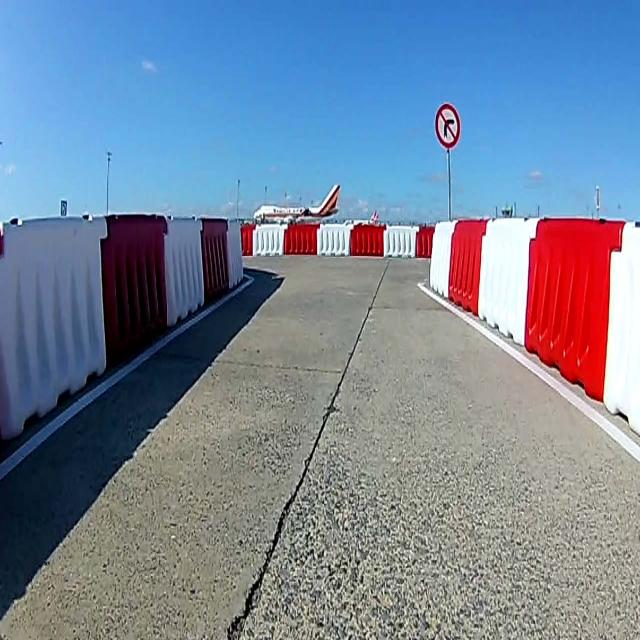sagadonulmez: (434, 103, 460, 149)
